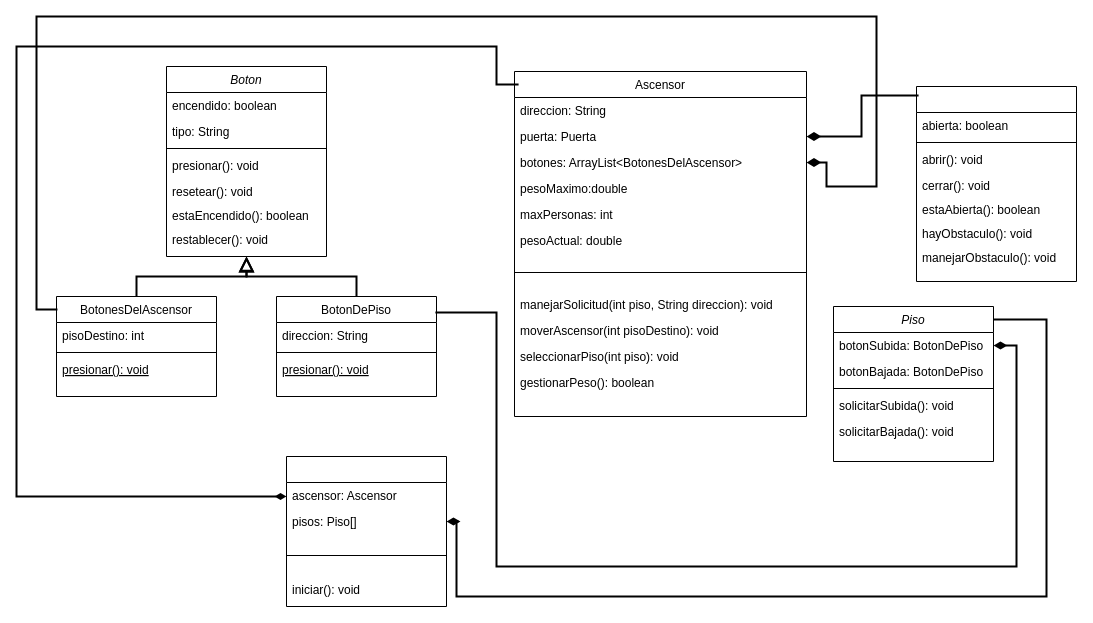
Some shapes in this 1093 by 623 pixel diagram are drawn without their labels. Each missing label, with the box of its shape:
Puerta: (916, 86, 1076, 282)
SistemaDeControl: (286, 456, 446, 606)
